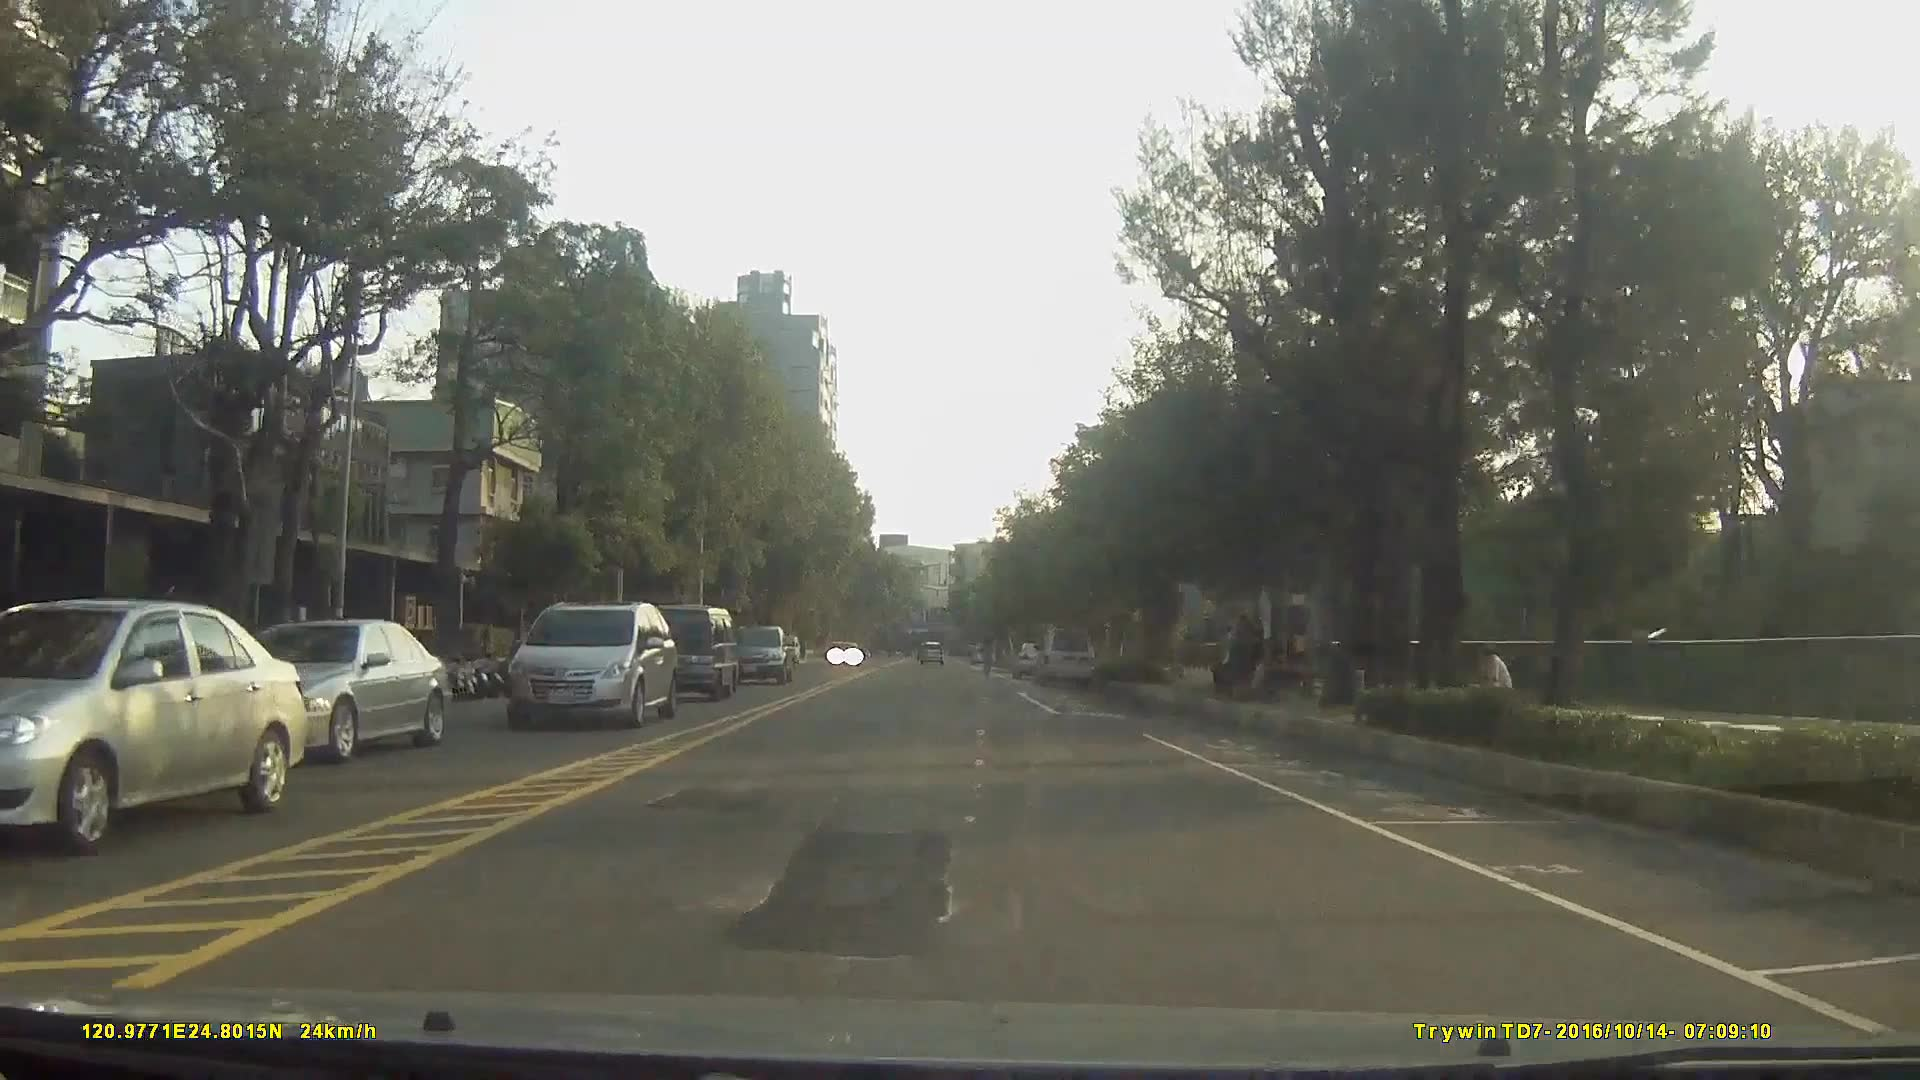rider: (978, 632, 998, 677)
vehicle: (0, 595, 305, 853), (216, 617, 450, 761), (502, 600, 677, 729), (631, 600, 737, 700), (720, 619, 790, 680), (1033, 623, 1096, 685), (1013, 641, 1055, 683), (915, 639, 945, 663)
